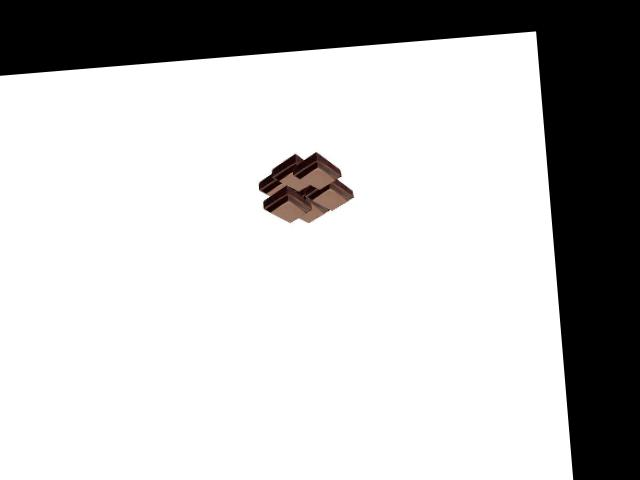chocolate: (253, 152, 354, 229)
